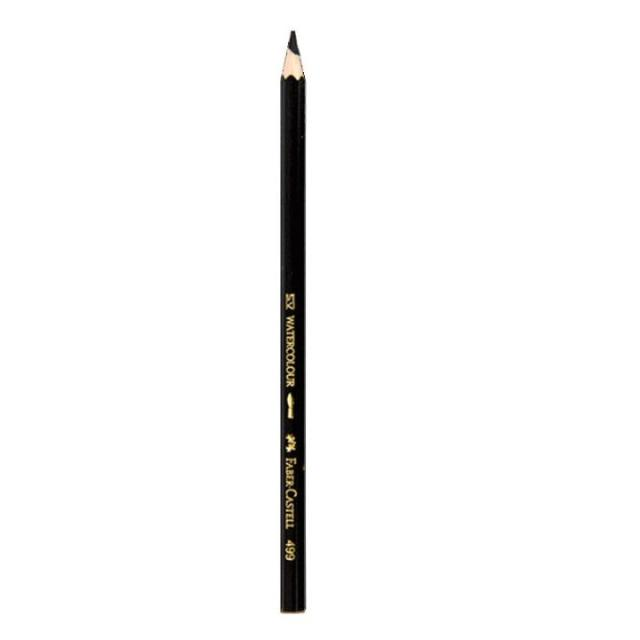pencil: (277, 23, 310, 618)
